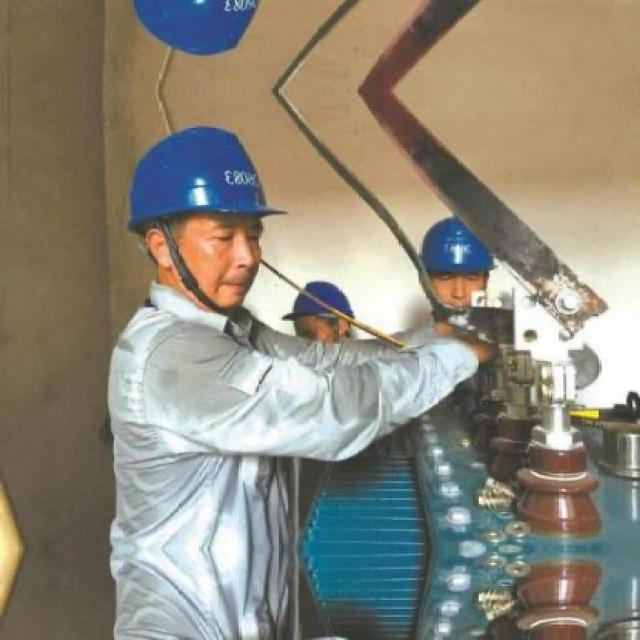helmet: (123, 116, 299, 314), (122, 0, 298, 68), (412, 214, 500, 320), (284, 274, 364, 354)
